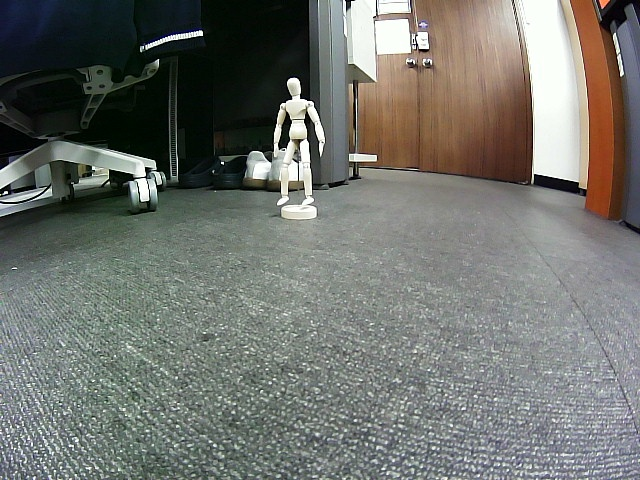person: (273, 77, 324, 205)
